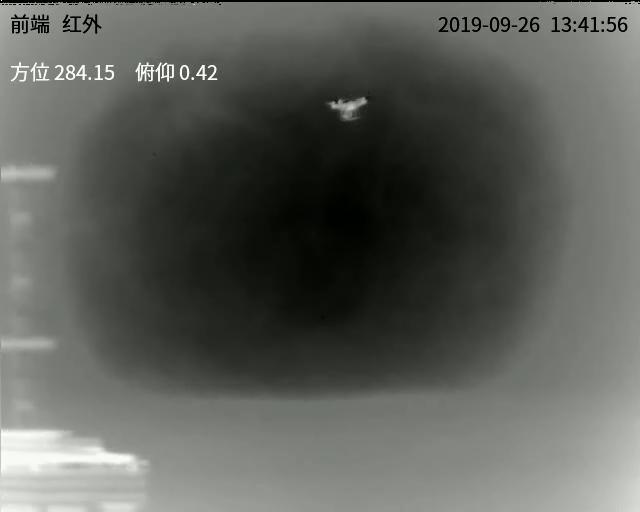uav: (325, 94, 370, 124)
